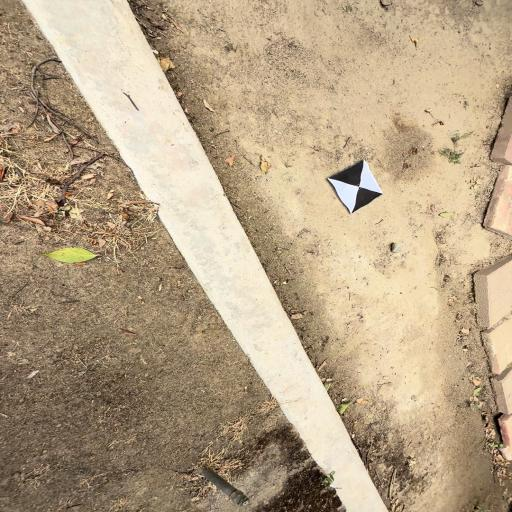target: (327, 160, 384, 214)
